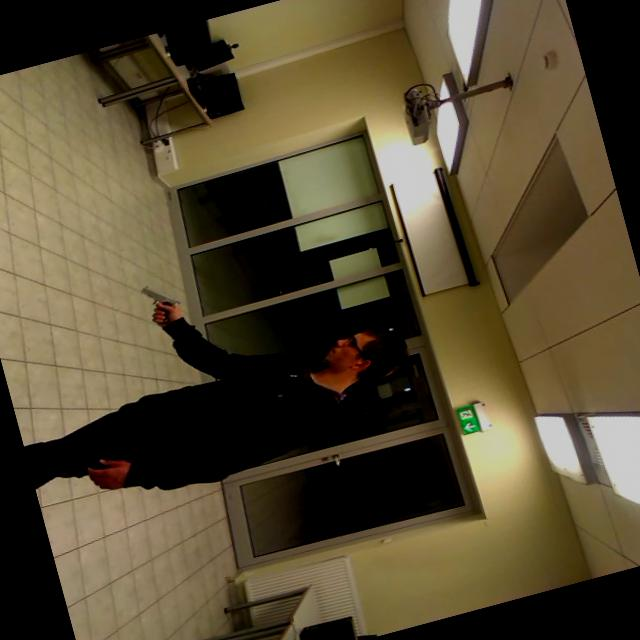handgun: (112, 272, 194, 334)
